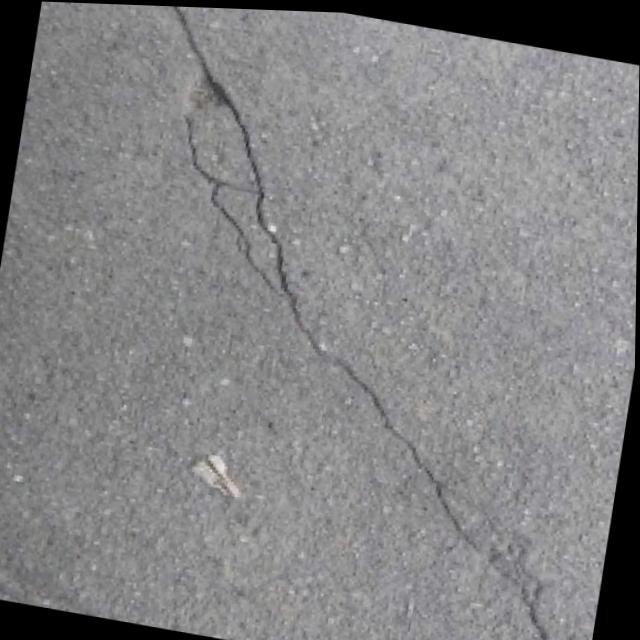Crack: (46, 2, 640, 640)
